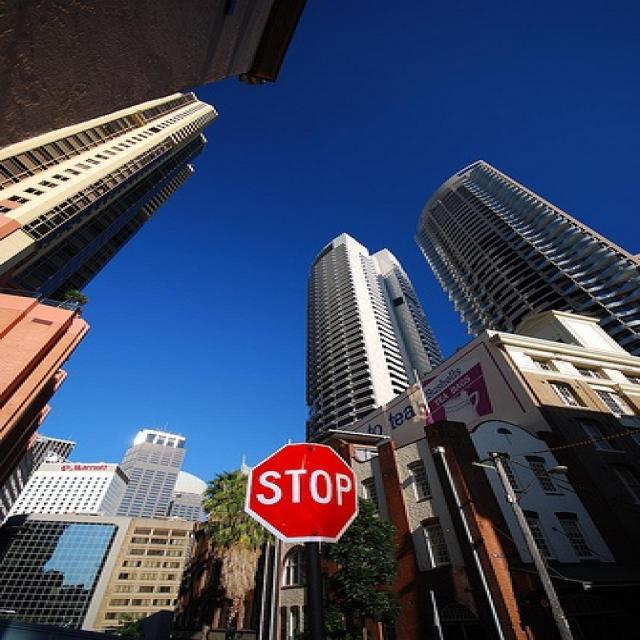pole: (296, 541, 331, 639)
